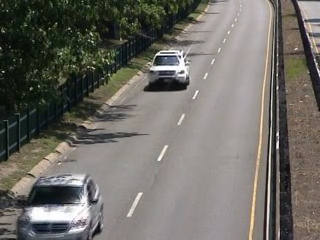car: (15, 171, 110, 240), (144, 48, 195, 93)
